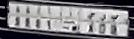1: (45, 5, 53, 31)
8: (14, 4, 21, 28), (24, 4, 31, 28), (35, 5, 42, 29)
B: (110, 13, 119, 36)
D: (98, 13, 107, 34)
X: (87, 10, 96, 33)
